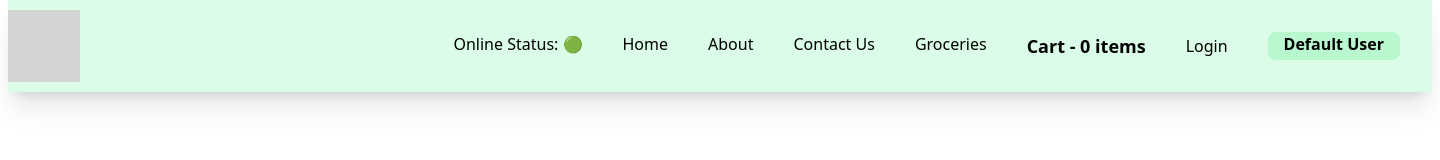
Test case: Should change my login button to logout button on click
Click the button "Login". click: (1207, 46)
box: [1186,32,1228,60]
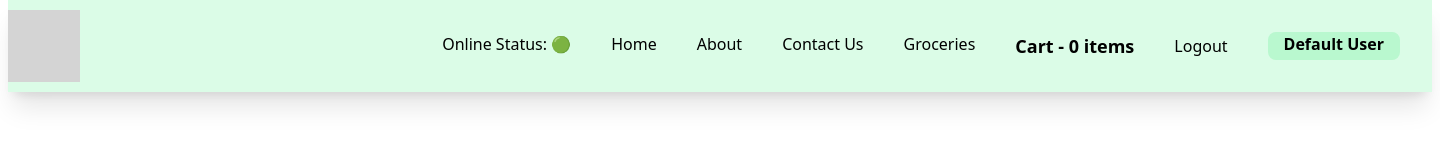
Expected: the button "Logout" is shown, [1174,32,1228,60]
